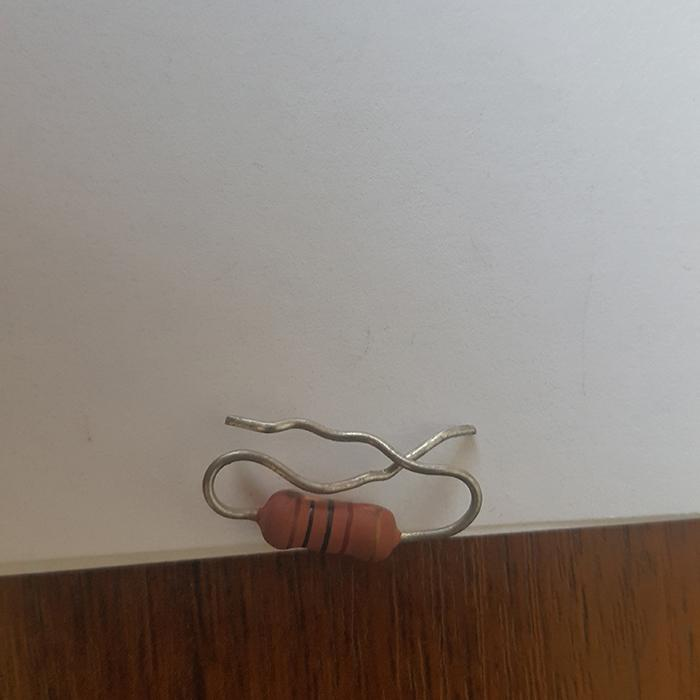resistor: (255, 490, 401, 563)
